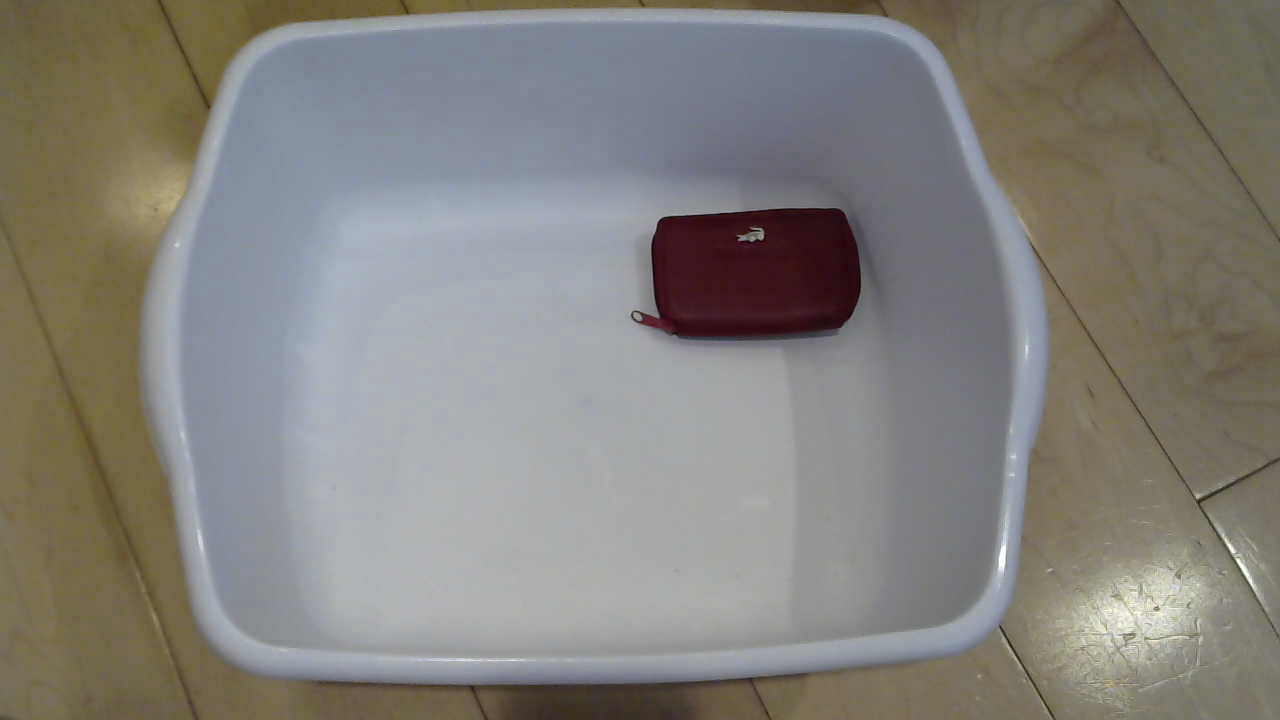wallet: (635, 181, 892, 373)
